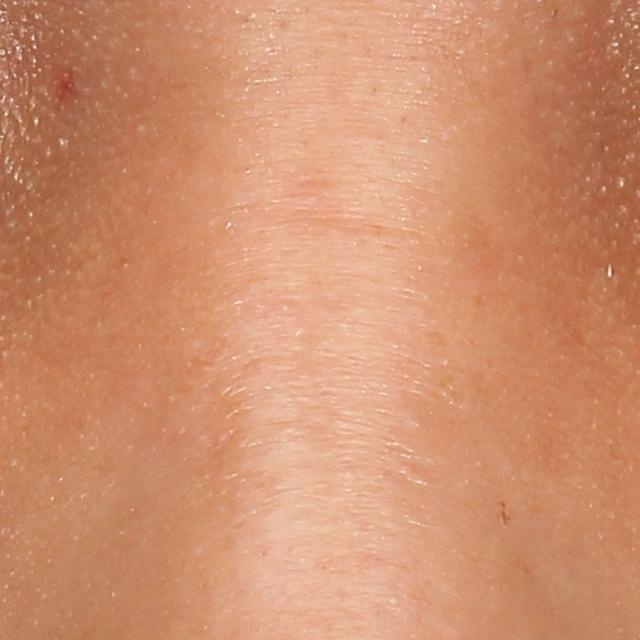melasma: (495, 494, 515, 536)
nevus: (48, 64, 82, 111)
